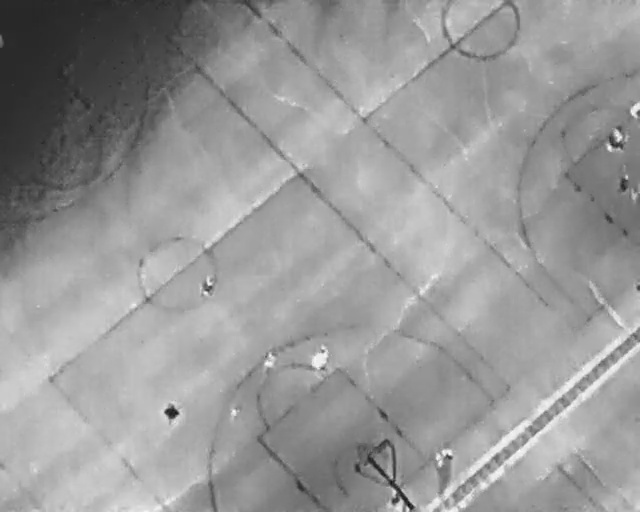Person: (605, 122, 626, 152), (312, 341, 330, 375), (162, 401, 180, 426), (262, 351, 277, 378), (617, 167, 630, 195), (435, 448, 453, 467), (202, 275, 214, 297)
